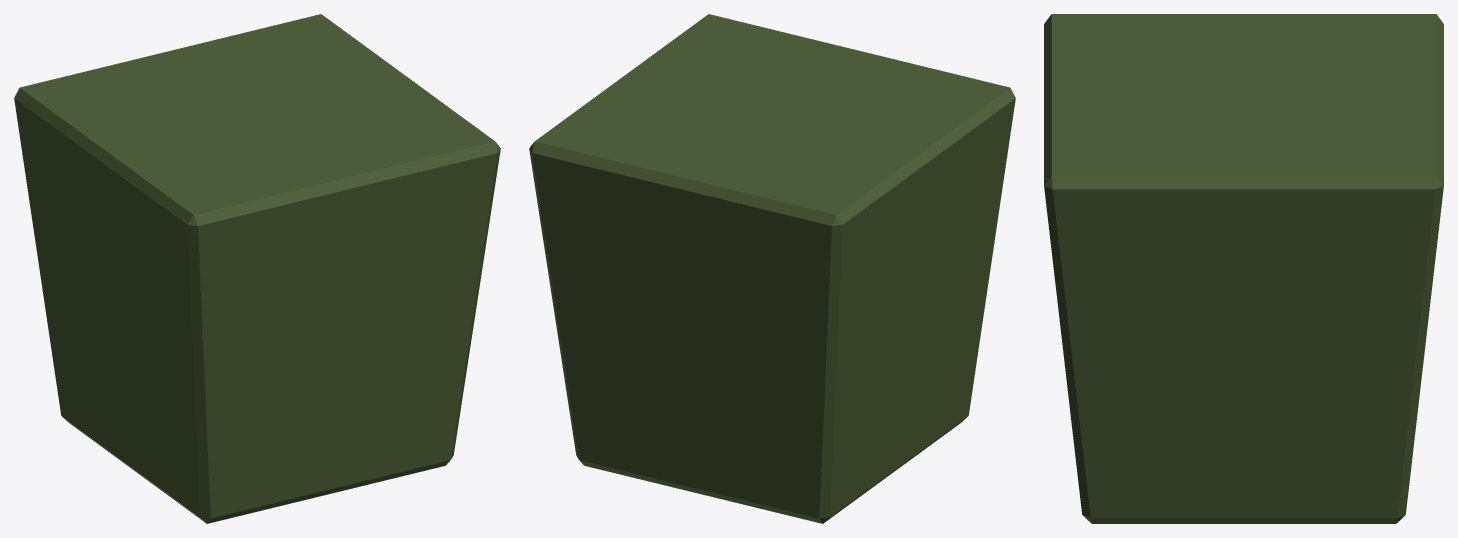
The model's file is AmmoBox.fbx.
The picture shows the model from 3 angles, left to right: view 1: azimuth 30°, elevation 25°; view 2: azimuth 150°, elevation 25°; view 3: azimuth 270°, elevation 25°; orthographic projection. The views are drawn at different scales.
Parts seen in each view (by area): view 1: AmmoBoxHighPoly; view 2: AmmoBoxHighPoly; view 3: AmmoBoxHighPoly.
Part boxes in pixels (left/top/right/bottom): AmmoBoxHighPoly: left=14, top=14, right=500, bottom=523; AmmoBoxHighPoly: left=529, top=14, right=1015, bottom=523; AmmoBoxHighPoly: left=1044, top=14, right=1443, bottom=523.
Bounding box in the file's own units: 49.74 × 50 × 49.74.
